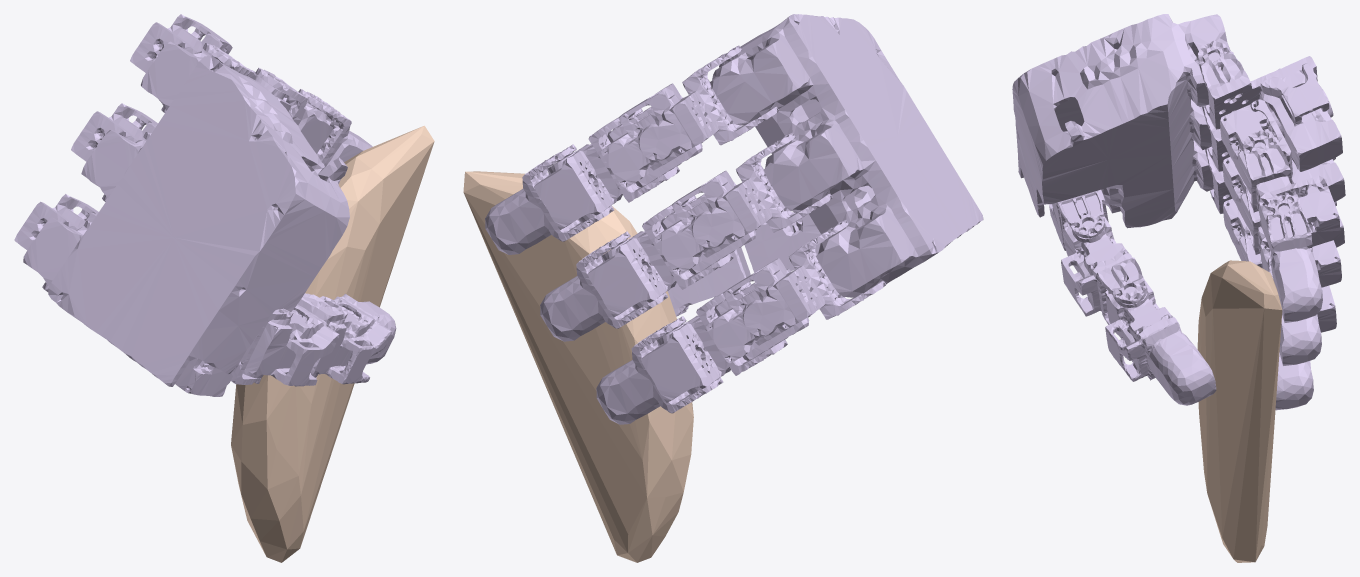
Rendered from b7c3487faf9a33-closed.glb.
3 renders of one model, left to right at view 1: azimuth 30°, elevation 25°; view 2: azimuth 150°, elevation 25°; view 3: azimuth 270°, elevation 25°, orthographic. The views are drawn at different scales.
Parts seen in each view (by area): view 1: LEAP_hand, world; view 2: LEAP_hand, world; view 3: LEAP_hand, world.
Part boxes in pixels (<box>): LEAP_hand: <box>14,14,396,396</box>; world: <box>231,125,434,562</box>; LEAP_hand: <box>485,14,983,424</box>; world: <box>463,171,693,562</box>; LEAP_hand: <box>1012,14,1345,410</box>; world: <box>1197,260,1282,562</box>.
Bounding box in the file's own units: 0.2141 × 0.2643 × 0.1595.
